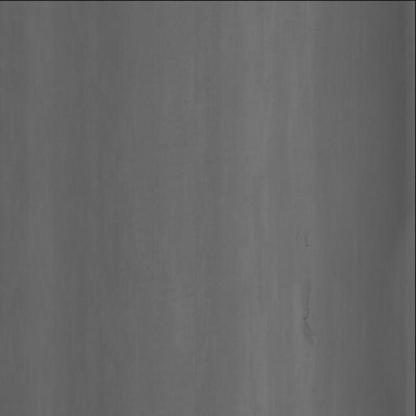water_spot: (288, 244, 320, 359)
